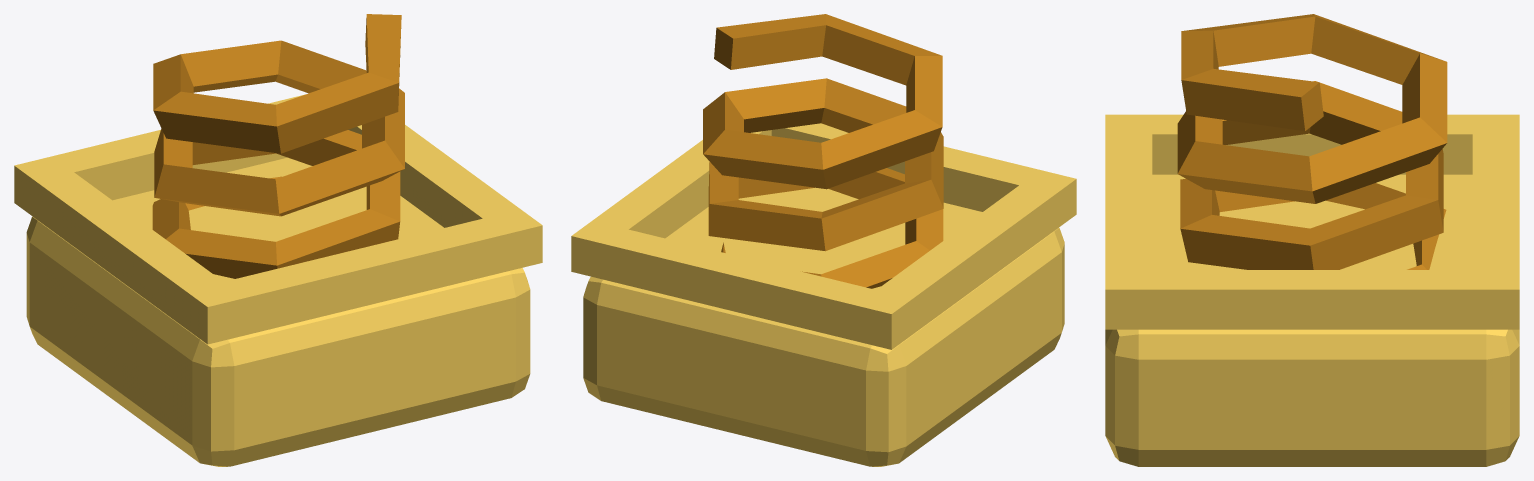
File: pkg_spring_1x1.glb
3 views of the same model, side by side, from view 1: azimuth 30°, elevation 25°; view 2: azimuth 150°, elevation 25°; view 3: azimuth 270°, elevation 25° (orthographic). The views are drawn at different scales.
Parts seen in each view (by area): view 1: PkgSpring1x1; view 2: PkgSpring1x1; view 3: PkgSpring1x1.
Part boxes in pixels (x1,y1,x2,y2): PkgSpring1x1: (14, 14, 542, 466); PkgSpring1x1: (571, 14, 1076, 466); PkgSpring1x1: (1105, 14, 1519, 466).
Size of the model in its own units: 0.075 by 0.0715 by 0.075.
